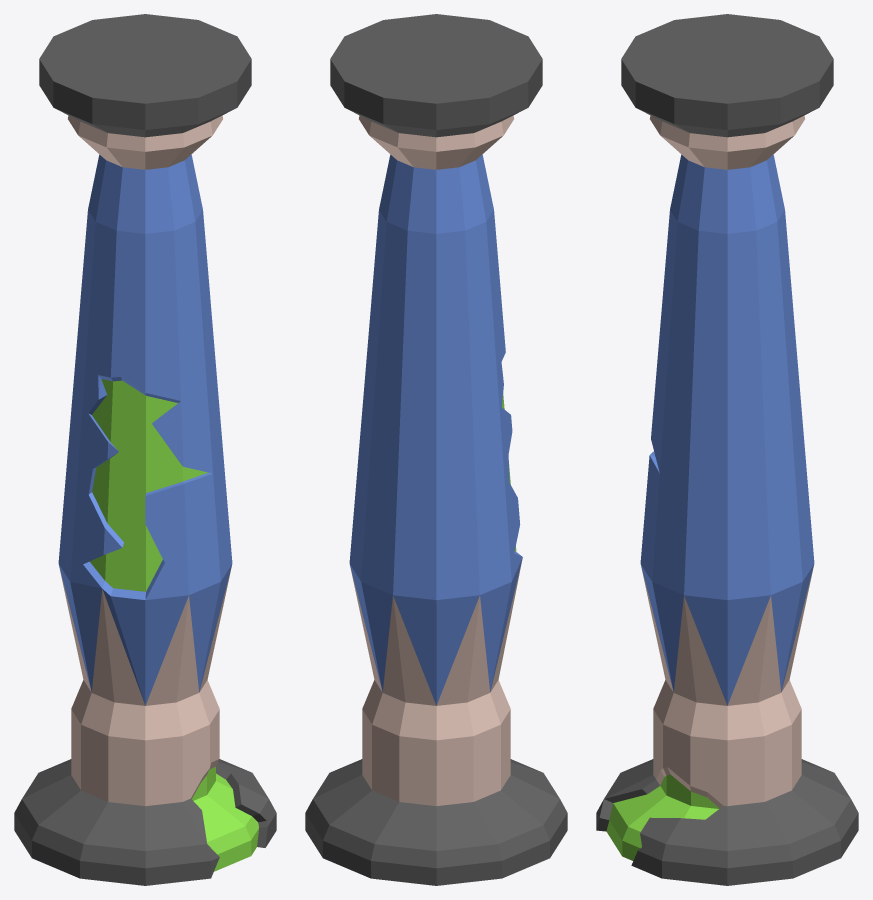
The model's file is Column_Egypt_2.fbx.
3 renders of one model, left to right at view 1: azimuth 30°, elevation 25°; view 2: azimuth 150°, elevation 25°; view 3: azimuth 270°, elevation 25°, orthographic.
Parts seen in each view (by area): view 1: Column_Egypt_2; view 2: Column_Egypt_2; view 3: Column_Egypt_2.
Part boxes in pixels (x1,y1,x2,y2): Column_Egypt_2: (14, 14, 276, 885); Column_Egypt_2: (305, 14, 567, 885); Column_Egypt_2: (596, 14, 858, 885).
Bounding box in the file's own units: 0.9169 × 2.98 × 0.9169.
